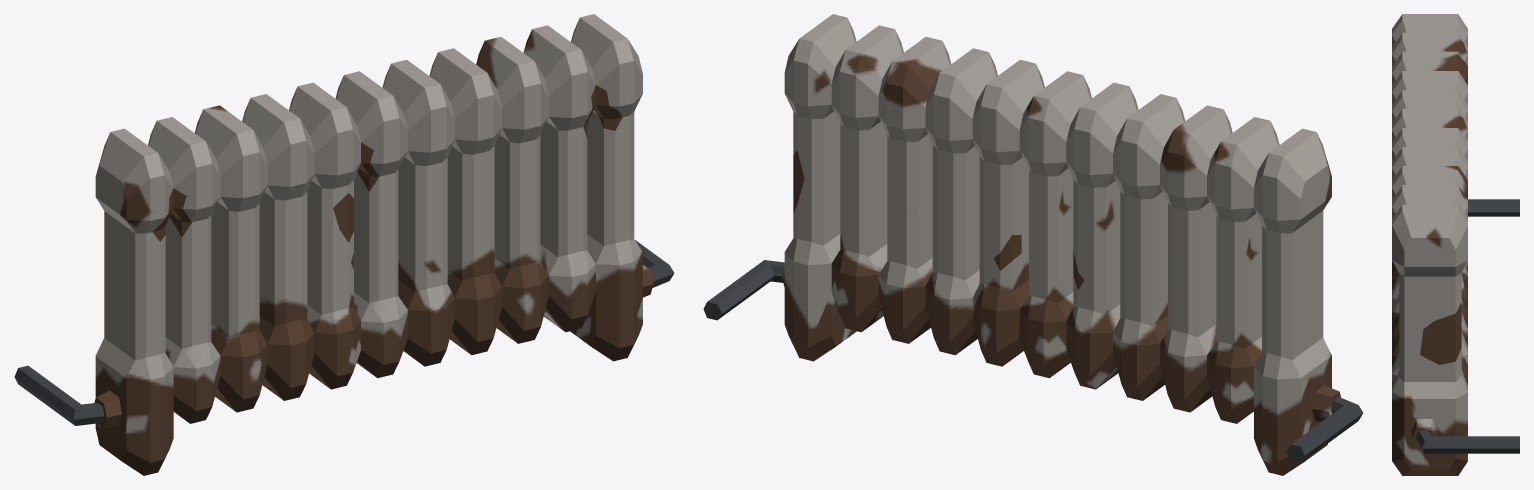
File: SM_Prop_Heater_02.fbx
3 views of the same model, side by side, from view 1: azimuth 30°, elevation 25°; view 2: azimuth 150°, elevation 25°; view 3: azimuth 270°, elevation 25° (orthographic). The views are drawn at different scales.
Parts seen in each view (by area): view 1: SM_Prop_Heater_02; view 2: SM_Prop_Heater_02; view 3: SM_Prop_Heater_02.
Boxes of the visible parts, x1,y1,x2,y2 form: SM_Prop_Heater_02: (14,14,674,475); SM_Prop_Heater_02: (703,14,1363,475); SM_Prop_Heater_02: (1392,14,1519,475).
Bounding box in the file's own units: 158 × 80.24 × 35.02.
